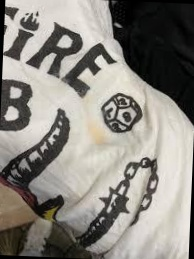mustard: (83, 121, 103, 149)
